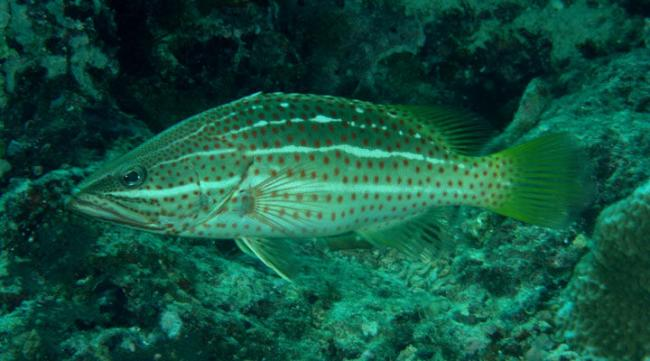fish: (71, 92, 584, 284)
